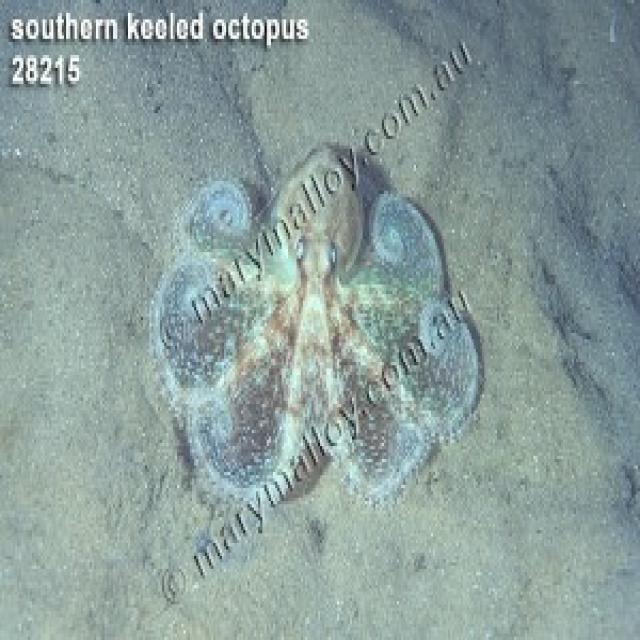Octo: (152, 150, 488, 510)
